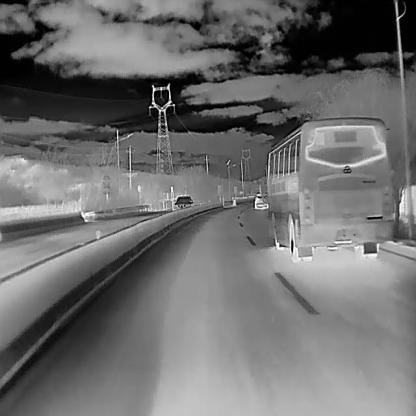bus: (262, 114, 396, 265)
car: (172, 188, 194, 216), (253, 190, 270, 209)
